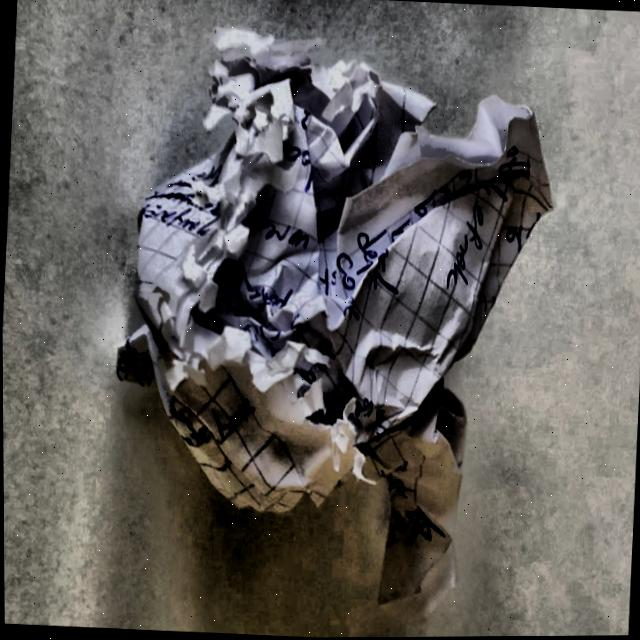paper: (107, 24, 562, 639)
